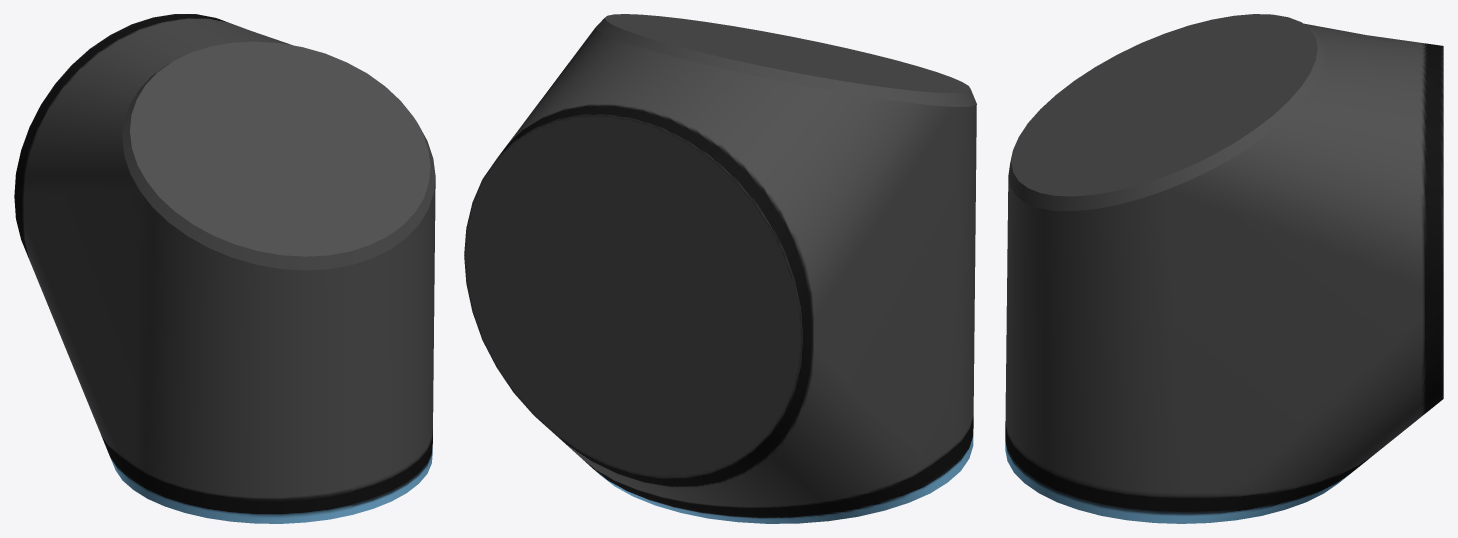
Rendered from shoulder.fbx.
The picture shows the model from 3 angles, left to right: view 1: azimuth 30°, elevation 25°; view 2: azimuth 150°, elevation 25°; view 3: azimuth 270°, elevation 25°; orthographic projection. The views are drawn at different scales.
Visible parts, largest first — view 1: shoulder; view 2: shoulder; view 3: shoulder.
Part boxes in pixels (x1,y1,x2,y2): shoulder: (14, 14, 435, 523); shoulder: (464, 14, 976, 523); shoulder: (1005, 14, 1443, 523).
Size of the model in its own units: 18.07 by 22.65 by 22.46.
